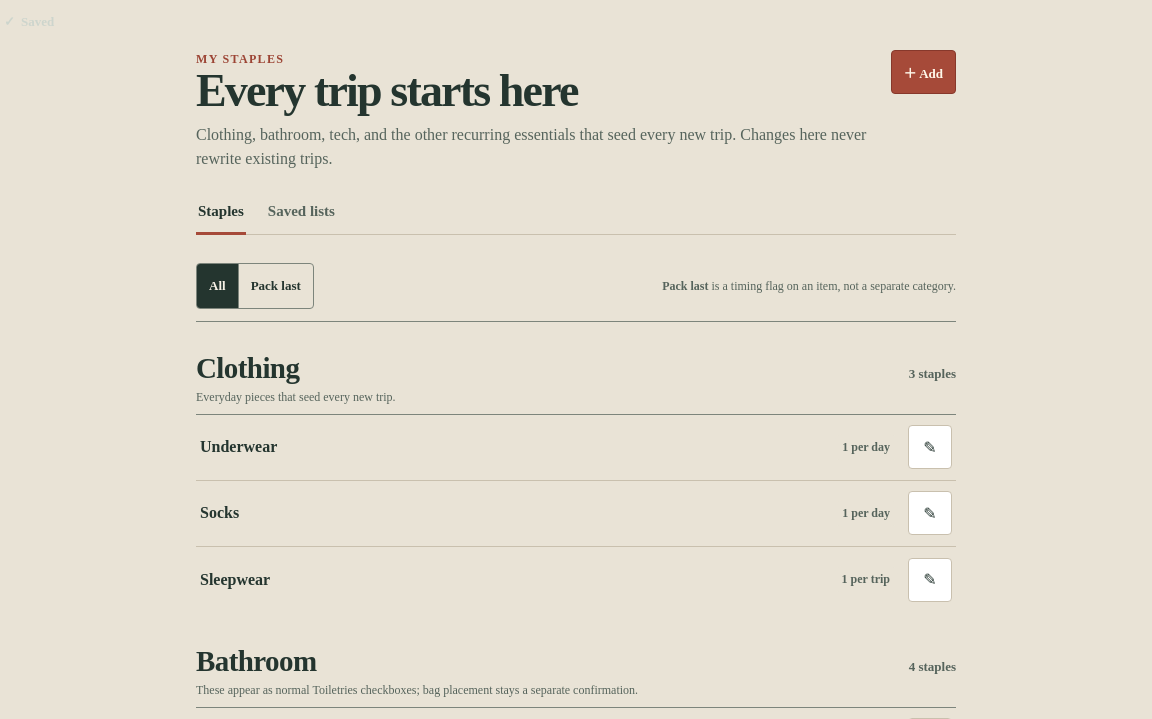
Test: adding a staple › refuses the quantity 2.5 and saves nothing
Expected: the element named "Filter staples" is shown, left=196, top=263, right=314, bottom=309
Click the button "＋ Add". click: (923, 72)
box: left=891, top=50, right=956, bottom=94
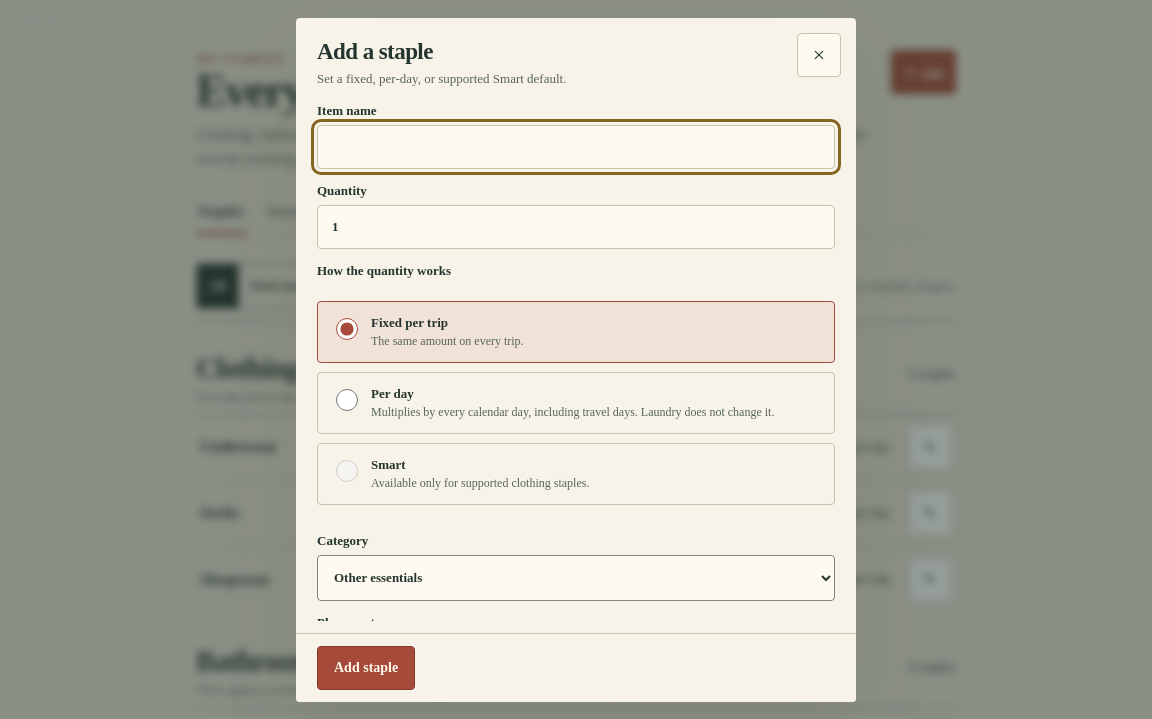
Type "Hat" into the field labelled "Item name". click: (576, 146)
box: left=317, top=124, right=835, bottom=168
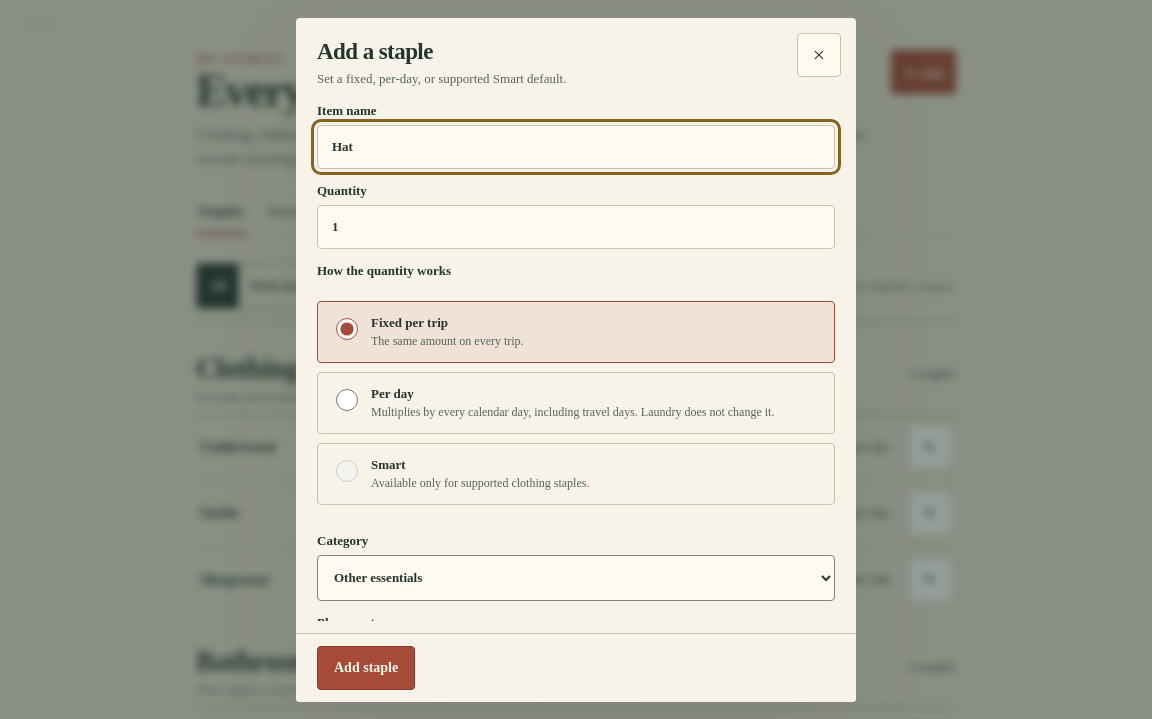
Replace the text in the number field labelled "Quantity" with "2.5". click: (576, 226)
box: left=317, top=204, right=835, bottom=248
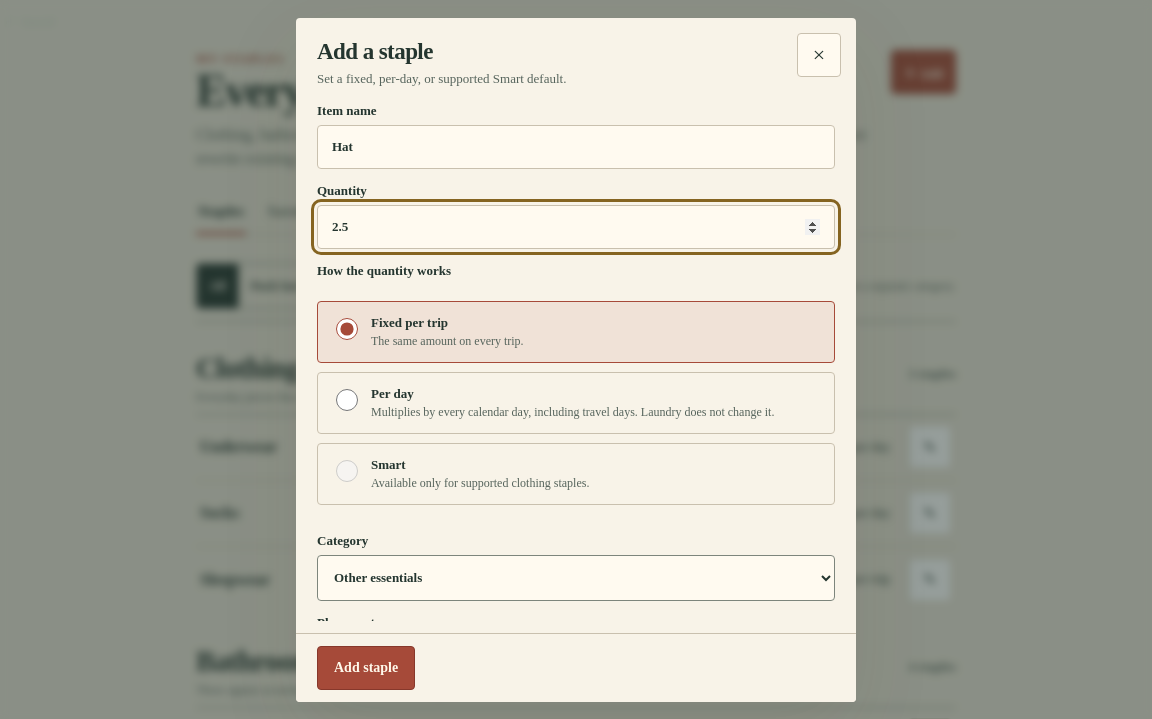
Click the button "Add staple". click: (366, 668)
box: left=317, top=646, right=415, bottom=690
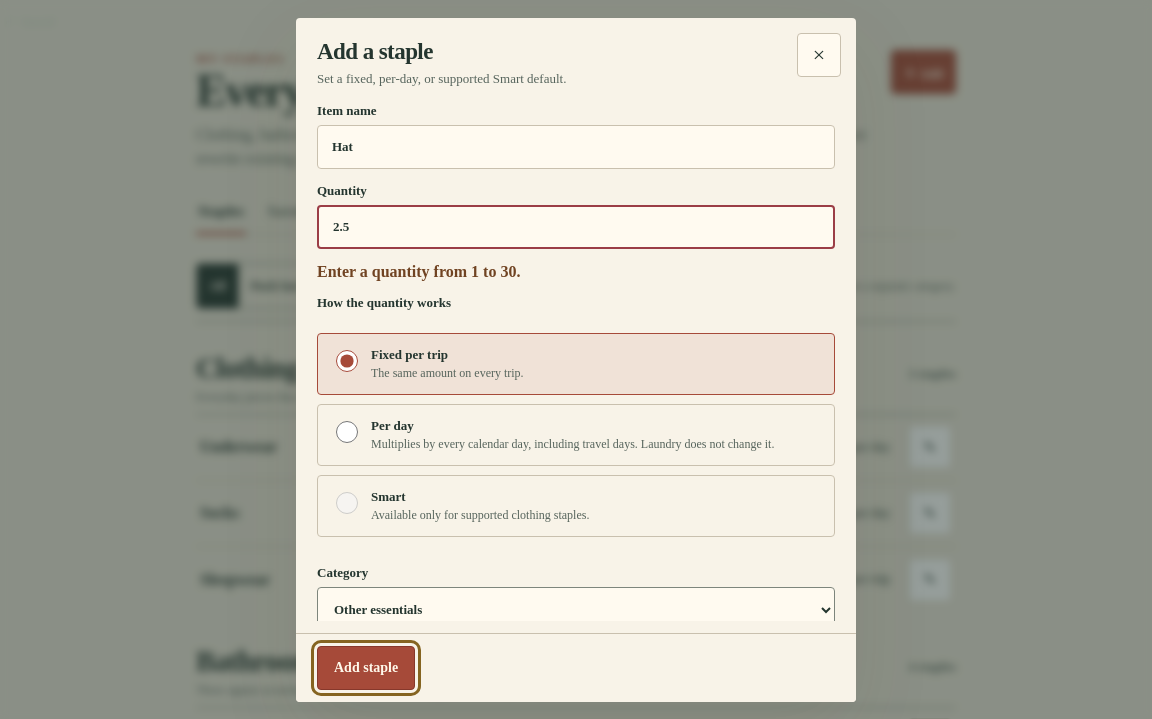
Now the message reads "Enter a quantity from 1 to 30.", box left=317, top=262, right=520, bottom=280
